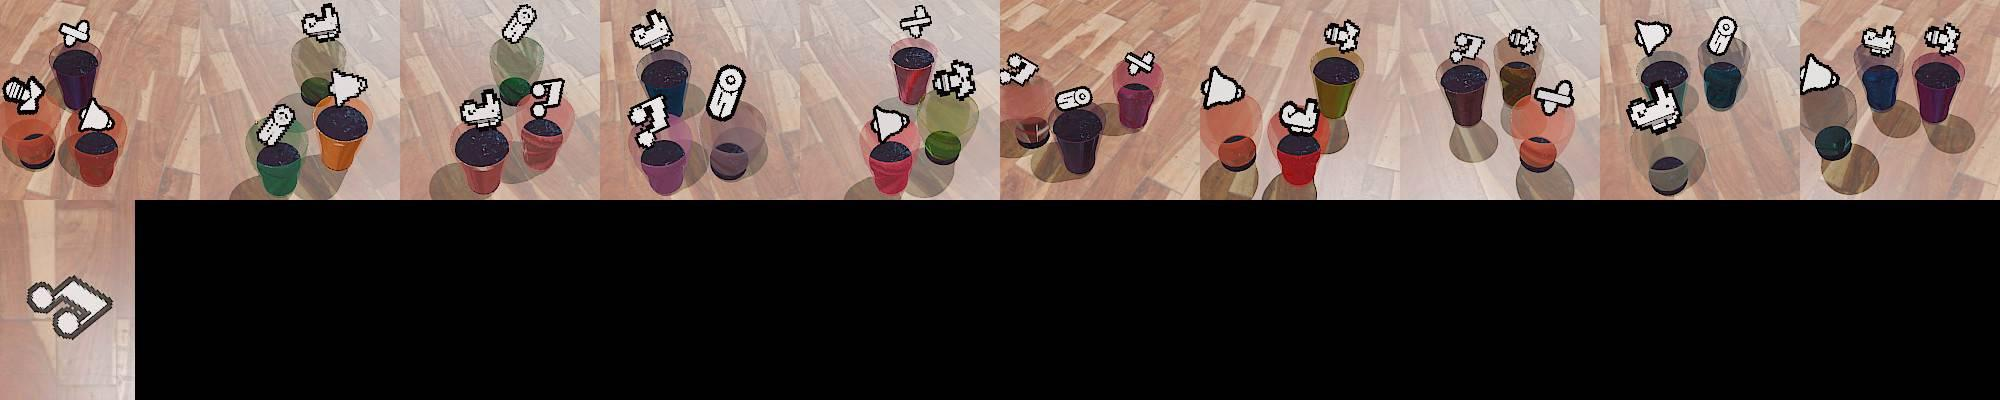icon: (26, 273, 115, 340), (1626, 79, 1682, 132), (705, 62, 747, 122), (626, 93, 671, 148), (629, 9, 675, 54), (459, 87, 505, 130), (320, 68, 369, 108), (1200, 65, 1244, 110), (256, 99, 297, 146), (930, 59, 977, 99), (1278, 96, 1321, 135), (1, 74, 45, 113), (1798, 54, 1841, 93), (870, 104, 911, 144), (302, 3, 341, 43), (528, 75, 566, 116), (1533, 78, 1574, 116), (501, 4, 538, 46), (77, 96, 115, 132), (1634, 19, 1672, 56), (1323, 19, 1361, 55), (999, 52, 1038, 87), (1705, 15, 1739, 56), (1861, 24, 1898, 57), (1923, 23, 1960, 56), (1448, 32, 1486, 64), (1055, 84, 1094, 112), (899, 5, 932, 37), (1508, 25, 1540, 56), (59, 19, 91, 48), (1124, 50, 1156, 76)
